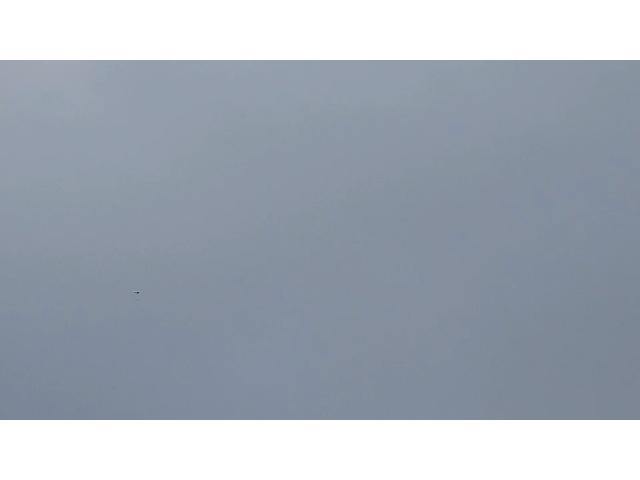Anti-Drone: (131, 290, 141, 296)
